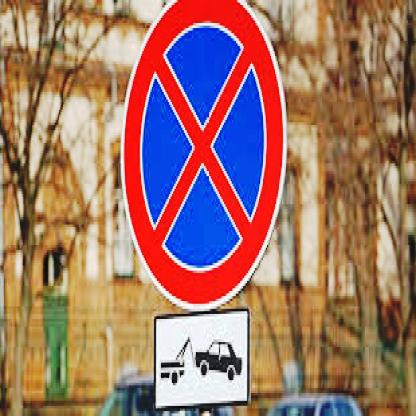No stopping: (124, 0, 288, 313)
